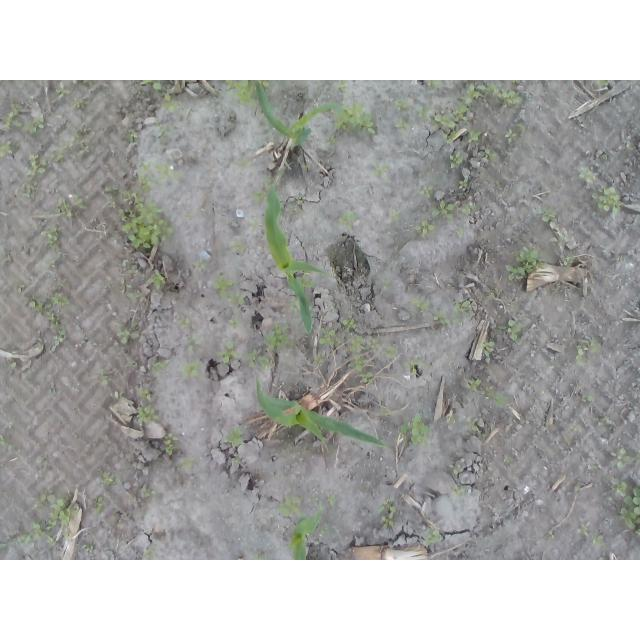Maize: (253, 375, 391, 452), (264, 185, 327, 337), (253, 81, 337, 148), (293, 508, 320, 560)
Weeds: (106, 182, 175, 252), (454, 84, 528, 121), (30, 294, 73, 347), (609, 475, 640, 537), (504, 245, 545, 283), (4, 102, 47, 135), (335, 102, 378, 135), (212, 271, 249, 305), (466, 377, 506, 408), (398, 414, 432, 446), (223, 80, 258, 110), (48, 498, 81, 528), (111, 319, 145, 346), (136, 159, 184, 178), (592, 186, 623, 215), (394, 97, 431, 121), (7, 521, 45, 544), (66, 128, 95, 157), (265, 321, 291, 352), (348, 333, 368, 373), (216, 338, 240, 367), (575, 336, 600, 363), (431, 199, 456, 225), (23, 152, 48, 177), (378, 498, 398, 529), (432, 311, 464, 329), (278, 495, 303, 518), (504, 123, 528, 146), (615, 447, 640, 468), (136, 404, 162, 424), (247, 351, 274, 370), (432, 111, 457, 131), (319, 326, 341, 348), (177, 360, 203, 378), (146, 270, 167, 291), (223, 425, 243, 447), (154, 118, 178, 136), (160, 93, 181, 113), (415, 221, 437, 240), (96, 470, 121, 486), (506, 319, 522, 344), (531, 207, 557, 222), (162, 431, 178, 455), (143, 80, 167, 96), (46, 227, 62, 250), (424, 526, 442, 546), (228, 237, 248, 255), (183, 335, 202, 353), (414, 296, 434, 313), (0, 140, 16, 161), (464, 415, 481, 434), (55, 199, 72, 218), (402, 360, 421, 377), (577, 165, 594, 184), (338, 213, 355, 232), (394, 117, 410, 137), (257, 81, 278, 96), (271, 95, 287, 114), (340, 316, 357, 333), (70, 97, 90, 111), (450, 301, 471, 314), (592, 415, 608, 432), (449, 151, 464, 169), (151, 361, 170, 375), (135, 384, 151, 400), (56, 80, 72, 96), (73, 194, 89, 210), (466, 128, 482, 144), (127, 127, 141, 145), (371, 162, 389, 176), (174, 458, 194, 470), (51, 144, 65, 161), (96, 367, 109, 385), (388, 207, 401, 224), (127, 290, 145, 302), (138, 175, 150, 193), (300, 278, 318, 290), (21, 176, 32, 195), (481, 340, 497, 353), (560, 255, 577, 267), (425, 80, 445, 90), (95, 495, 106, 513), (357, 373, 375, 384), (247, 218, 260, 233), (420, 183, 433, 198), (176, 317, 192, 329), (235, 158, 251, 170), (337, 80, 350, 94), (482, 148, 496, 161), (457, 180, 471, 193), (449, 463, 464, 475), (387, 346, 402, 358), (263, 176, 273, 192), (488, 287, 504, 297), (287, 536, 299, 549), (193, 259, 206, 271), (575, 527, 589, 538), (253, 191, 268, 201), (143, 488, 161, 496), (6, 356, 18, 368), (371, 337, 383, 349), (325, 135, 338, 146), (125, 263, 139, 273), (450, 489, 465, 498), (592, 535, 605, 545), (568, 423, 581, 433), (0, 433, 10, 446), (464, 203, 477, 213), (378, 407, 390, 417), (275, 168, 289, 176), (83, 543, 94, 553), (38, 495, 49, 505), (231, 319, 241, 330), (287, 301, 297, 312), (143, 549, 153, 559), (47, 535, 57, 545), (547, 529, 557, 539), (296, 195, 306, 205), (442, 132, 453, 141), (595, 81, 609, 88), (314, 354, 322, 366), (504, 455, 513, 465), (227, 112, 236, 122), (582, 393, 593, 401), (384, 280, 393, 289), (231, 456, 241, 464), (252, 554, 265, 560), (331, 495, 338, 506), (329, 303, 336, 314), (448, 416, 457, 424), (56, 280, 65, 288), (128, 360, 137, 368), (319, 528, 329, 535), (458, 228, 466, 236), (284, 111, 293, 117), (308, 495, 316, 501), (64, 532, 69, 540), (511, 80, 521, 84), (287, 383, 293, 389), (303, 165, 309, 171)
